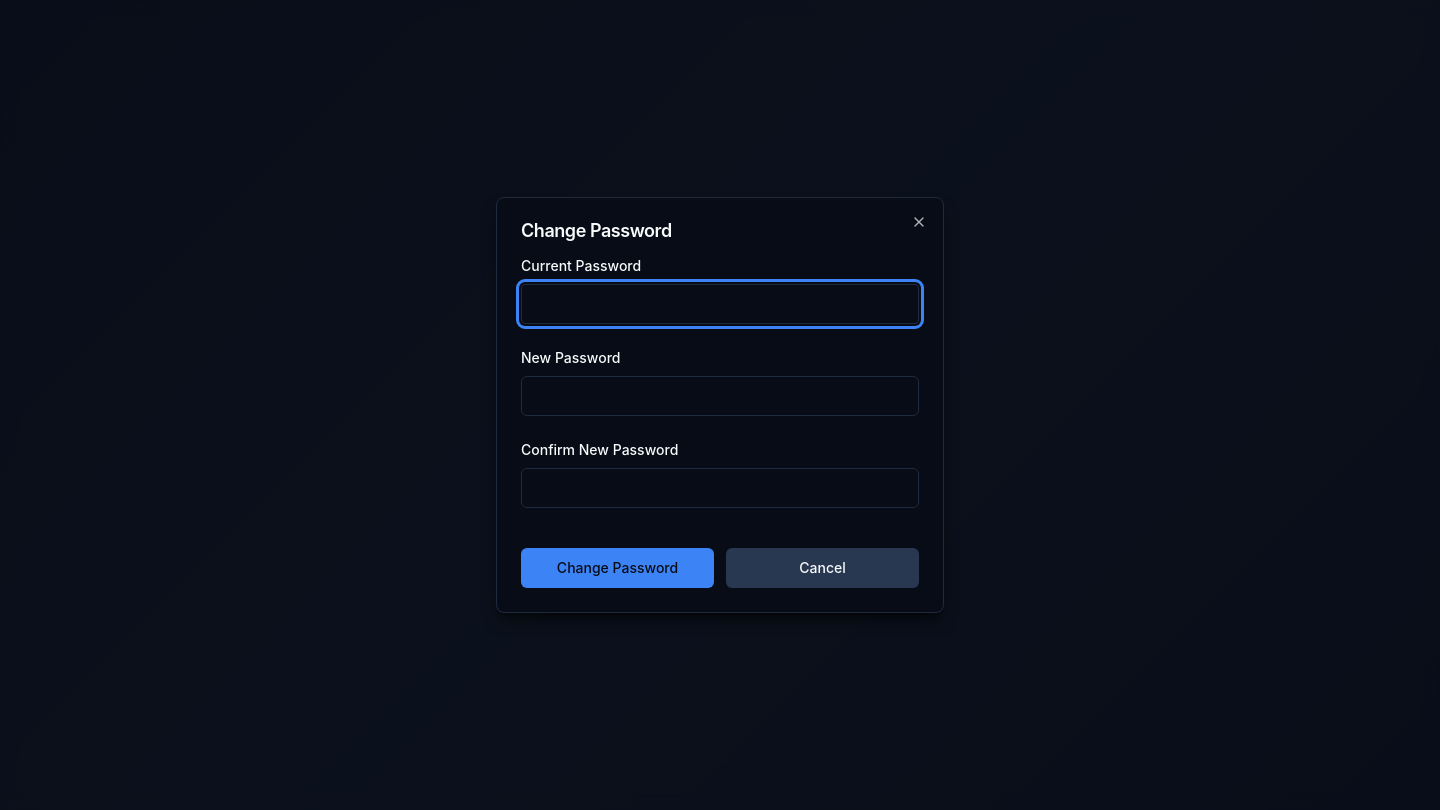
ChangePasswordDialog › rejects submission with an empty current password
Type "newpassword1" into the password field labelled "New Password".
click(720, 396); type("newpassword1")  # box [521,376,919,416]
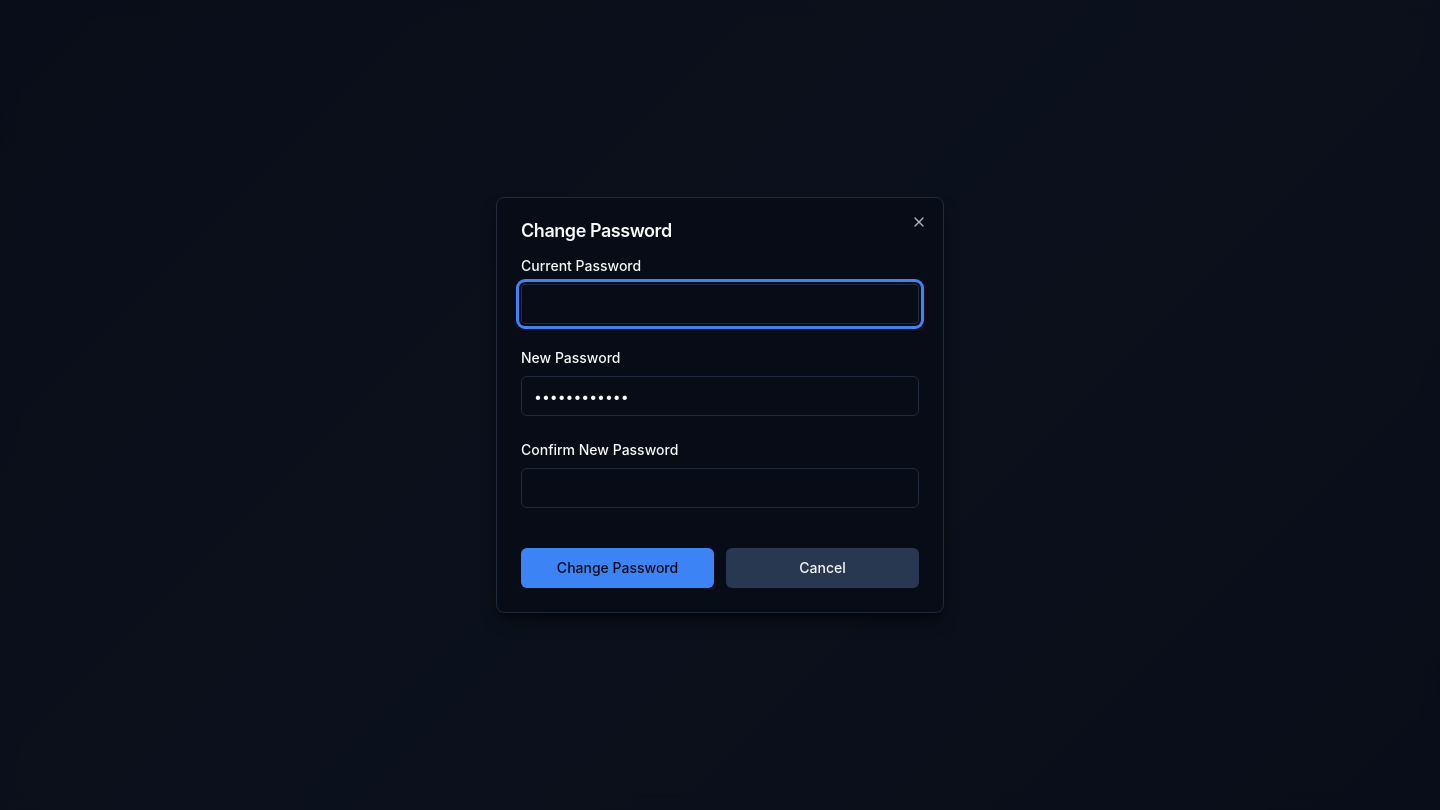
Type "newpassword1" into the password field labelled "Confirm New Password".
click(720, 488); type("newpassword1")  # box [521,468,919,508]
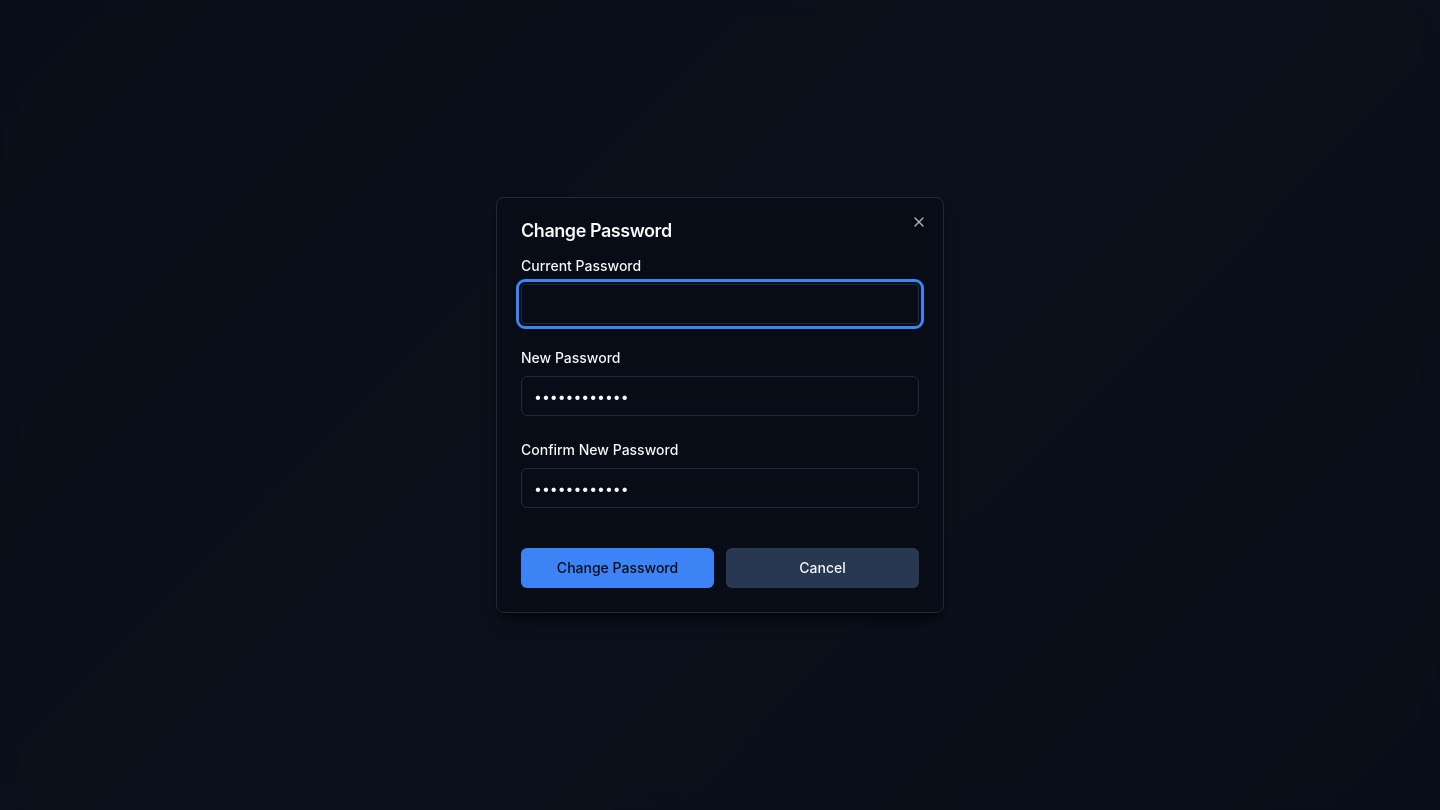
Submit the form labelled "Current Password", box [521,256,919,588]
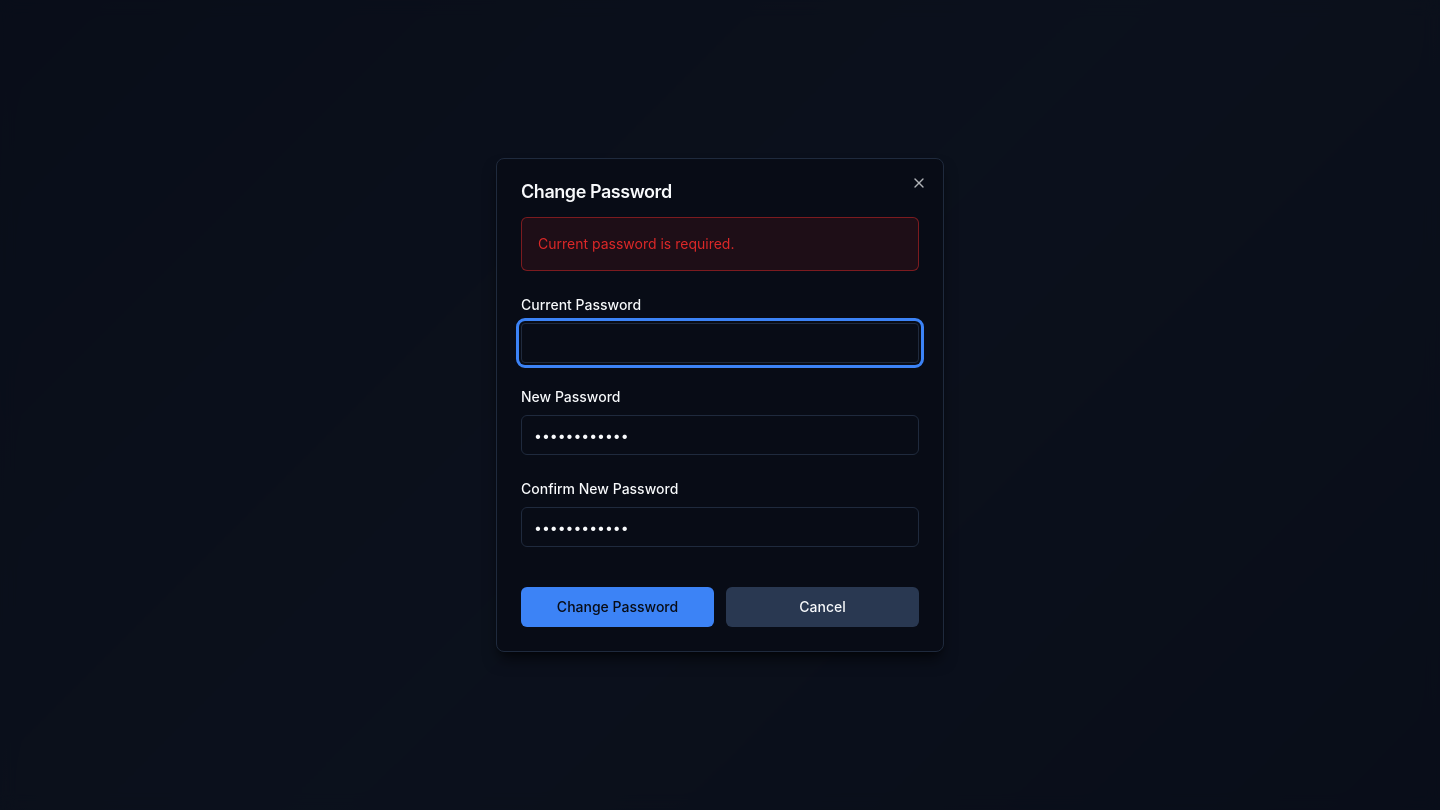
Now the text "Current password is required." is shown, box [538,235,734,252]
